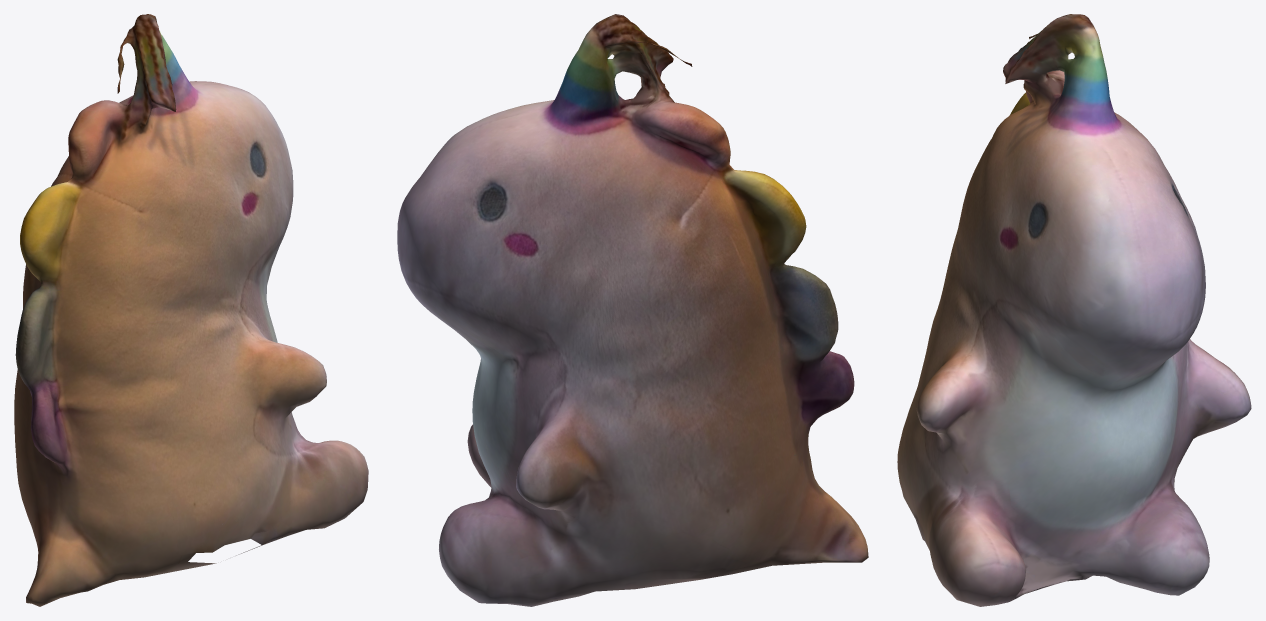
Rendered from modelo.glb.
3 renders of one model, left to right at view 1: azimuth 30°, elevation 25°; view 2: azimuth 150°, elevation 25°; view 3: azimuth 270°, elevation 25°, orthographic. The views are drawn at different scales.
Visible parts, largest first — view 1: Dino de peluche; view 2: Dino de peluche; view 3: Dino de peluche.
Part boxes in pixels (x1=…): Dino de peluche: x1=14, y1=14, x2=368, y2=606; Dino de peluche: x1=397, y1=14, x2=868, y2=606; Dino de peluche: x1=897, y1=14, x2=1251, y2=606.
Bounding box in the file's own units: 0.5472 × 0.7788 × 0.4592.
1 material, 1 textured.
